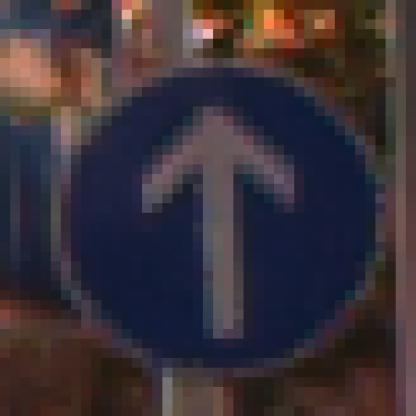AheadOnly: (52, 59, 366, 369)
